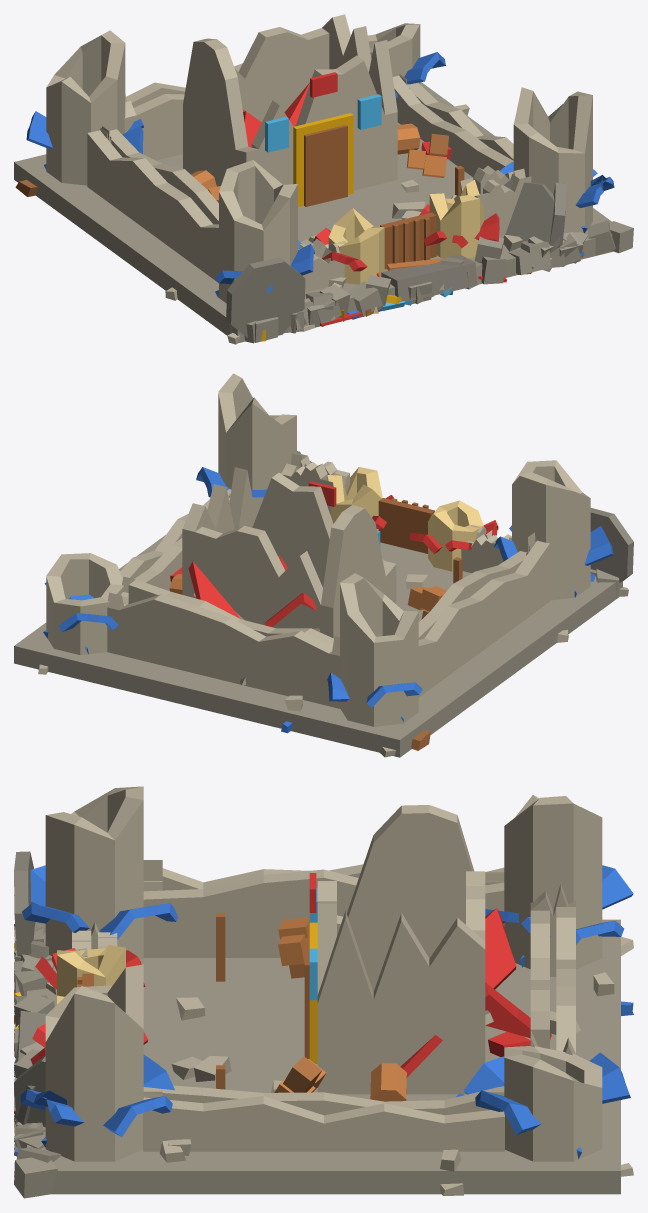
Rendered from castle_v1_dmg2.glb.
The picture shows the model from 3 angles, top to bottom: view 1: azimuth 30°, elevation 25°; view 2: azimuth 150°, elevation 25°; view 3: azimuth 270°, elevation 25°; orthographic projection. The views are drawn at different scales.
Parts seen in each view (by area): view 1: castle_v1_dmg2; view 2: castle_v1_dmg2; view 3: castle_v1_dmg2.
Boxes of the visible parts, left/top/right/bottom form: castle_v1_dmg2: left=14, top=14, right=633, bottom=344; castle_v1_dmg2: left=14, top=373, right=633, bottom=757; castle_v1_dmg2: left=14, top=786, right=633, bottom=1198.
Bounding box in the file's own units: 0.96 × 0.3669 × 0.96.
Materials: 1 (1 with a texture image).
